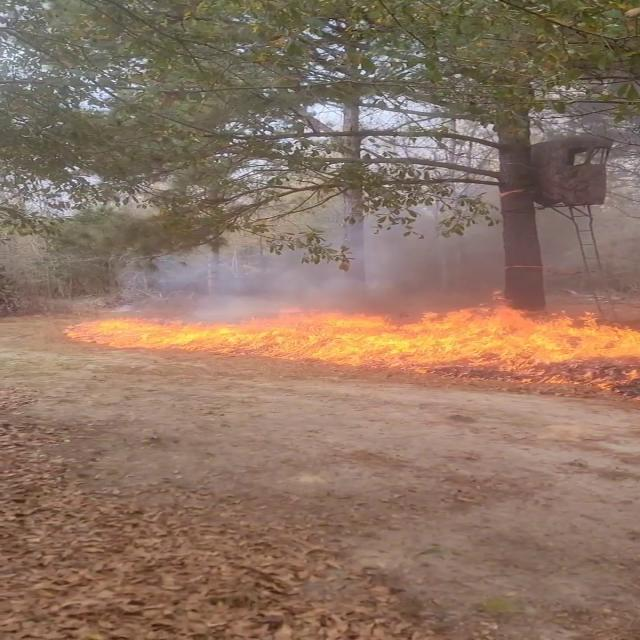Fire: (5, 315, 638, 383)
Smoke: (145, 212, 634, 322)
